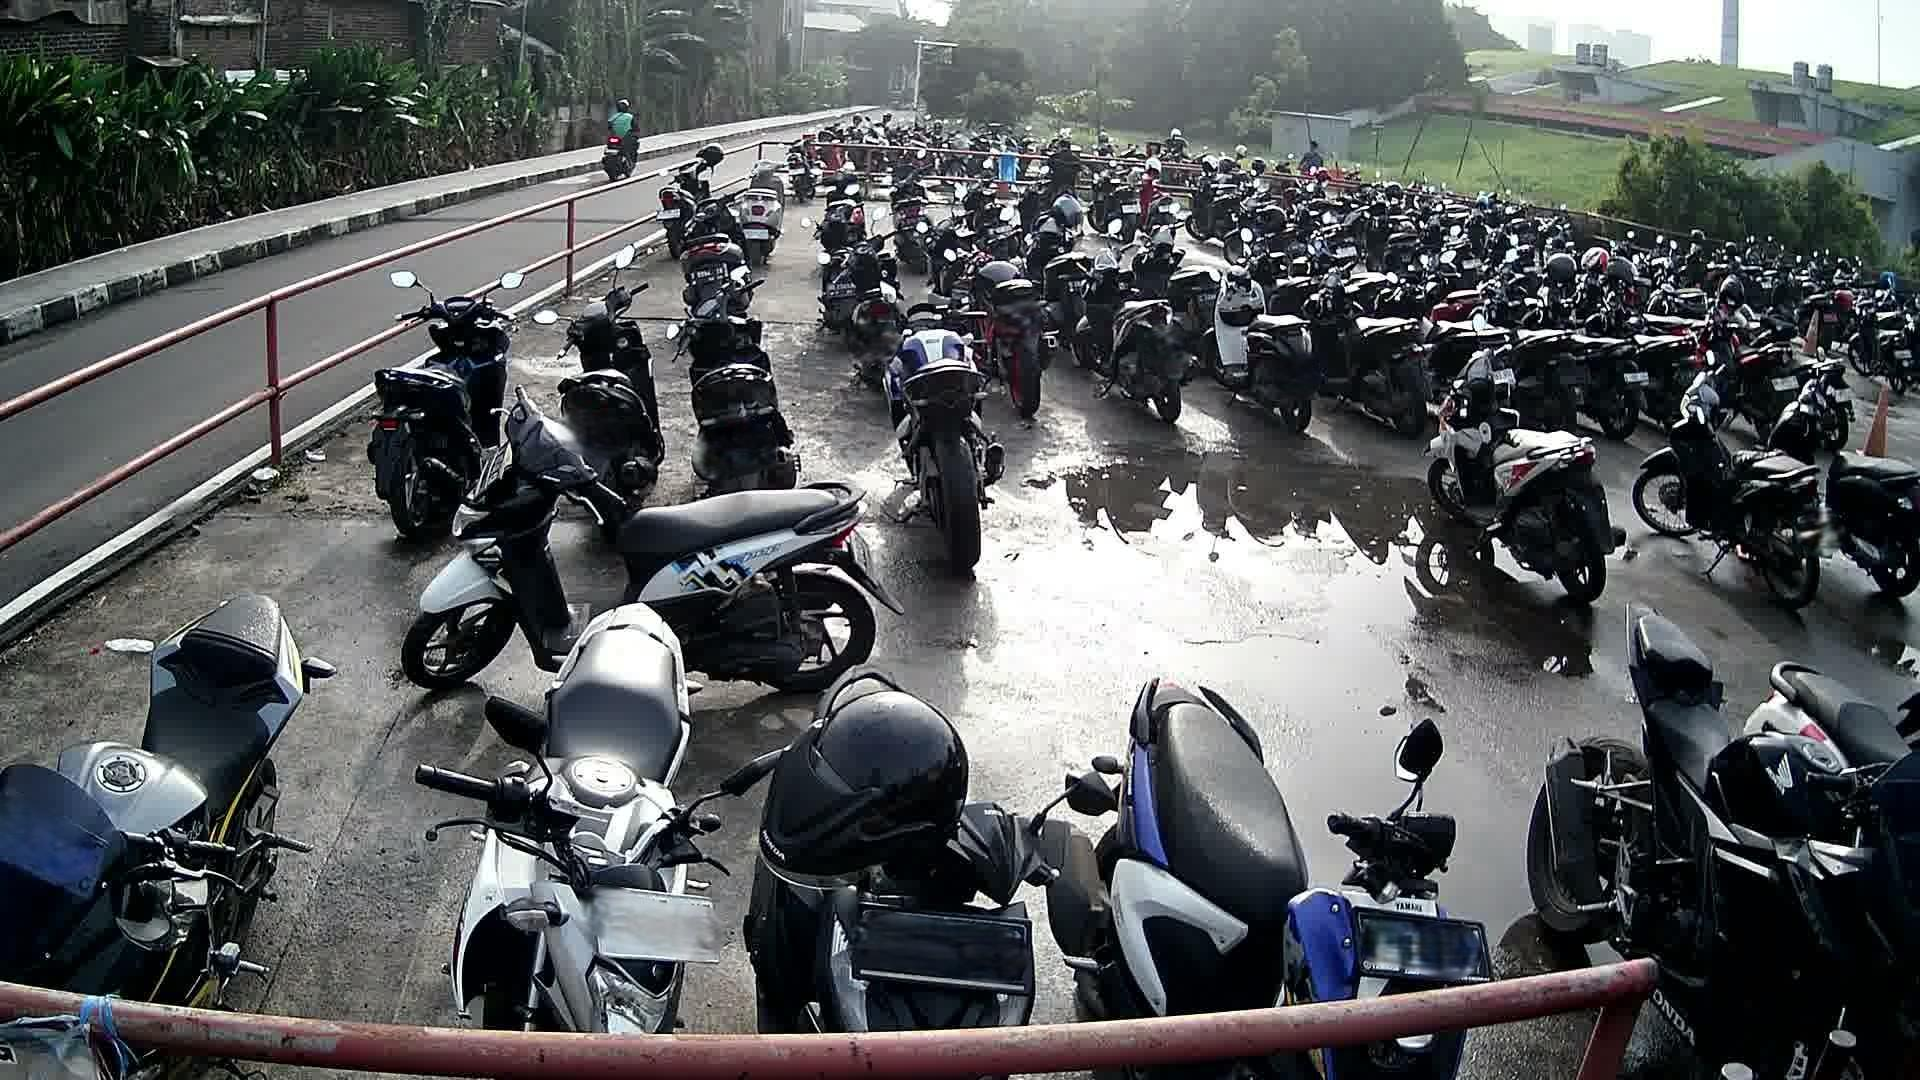motorcycle: (1524, 604, 1920, 1080), (5, 592, 347, 1080), (400, 382, 902, 691), (415, 600, 746, 1039), (1047, 671, 1501, 985), (742, 667, 1079, 1025), (1425, 342, 1626, 605), (1630, 363, 1824, 611), (367, 269, 529, 541), (880, 284, 1011, 574), (1772, 377, 1920, 597), (665, 268, 804, 487), (560, 281, 662, 500), (1739, 658, 1920, 765)
